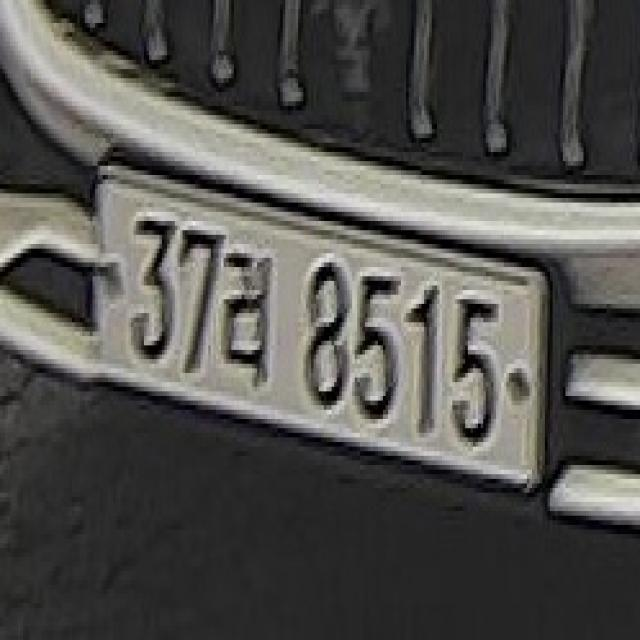1: (406, 285, 440, 433)
3: (131, 216, 177, 364)
5: (447, 290, 501, 447), (354, 267, 404, 424)
7: (177, 226, 224, 373)
8: (303, 253, 355, 414)
leo: (218, 249, 272, 391)
license_plate: (90, 157, 547, 511)
